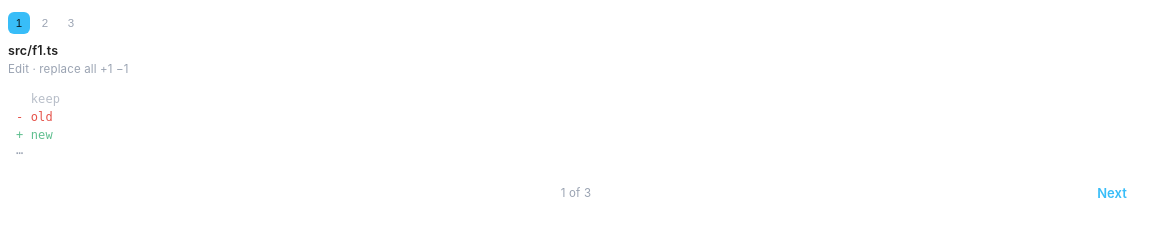
Scenario: ReplayTab › moves with Prev/Next, the chips and the arrow keys, clamped at the ends
This screenshot has width=1152, height=233.
Click the button "Next": (1112, 193) [1080,178,1144,209]
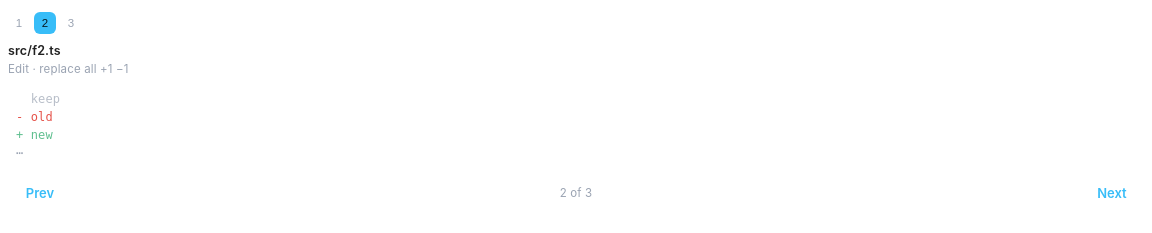
Check: the text "src/f2.ts" is shown, box [8,43,61,58]
Click the button named "Step 3": (71, 23) [60,12,82,34]
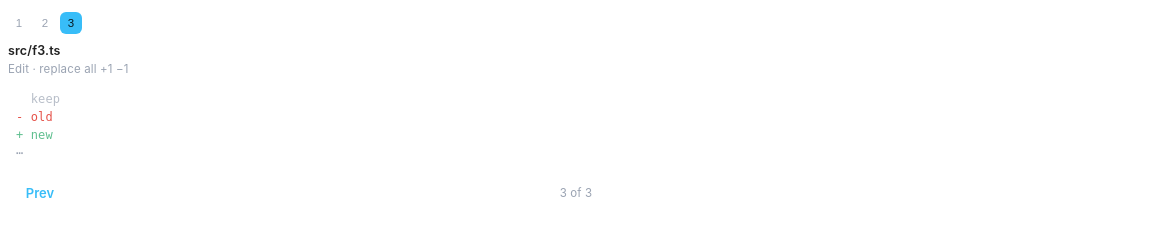
Press ArrowRight in the element with test id "replay"
Check: the text "src/f3.ts" is shown, box [8,43,61,58]
Press ArrowLeft in the element with test id "replay"
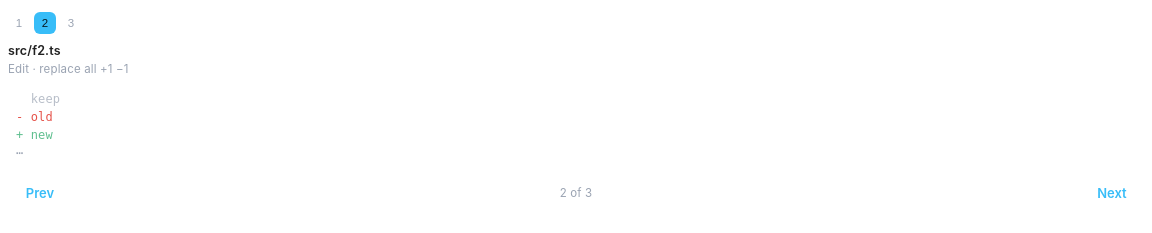
Check: the button "Prev" is enabled, box [8,178,72,209]
Check: the text "src/f2.ts" is shown, box [8,43,61,58]
